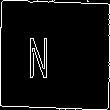N_N: (44, 29, 66, 81)
